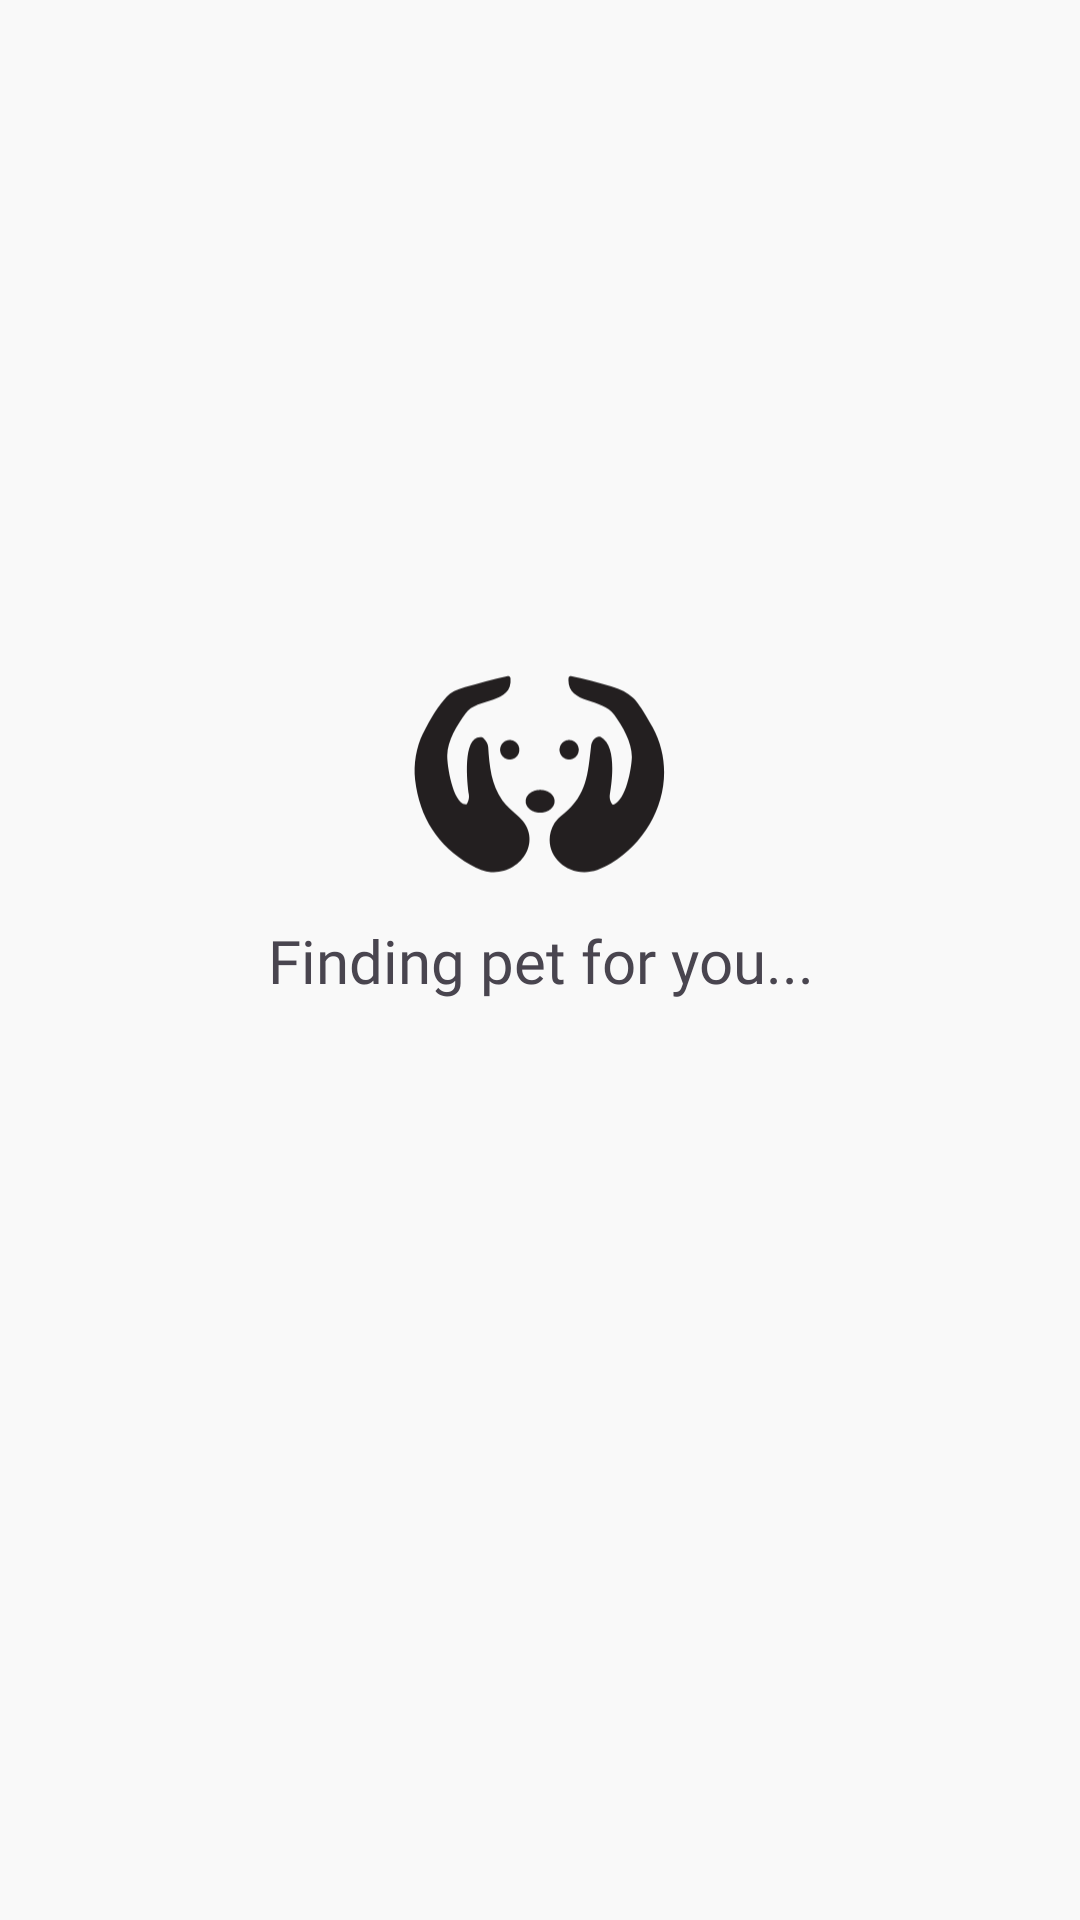

Screen size 1080w x 1920h. Icon name, then its box in pixels as (x1, y1, x2, y2):
aipet: (414, 675, 664, 873)
